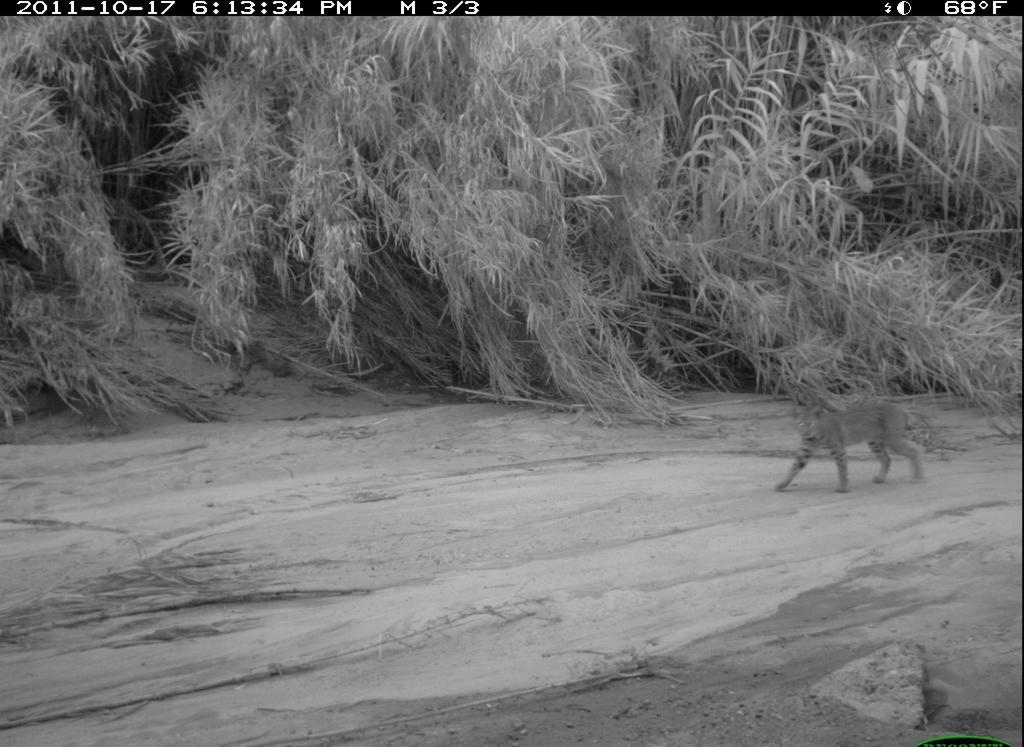bobcat: (763, 376, 934, 502)
